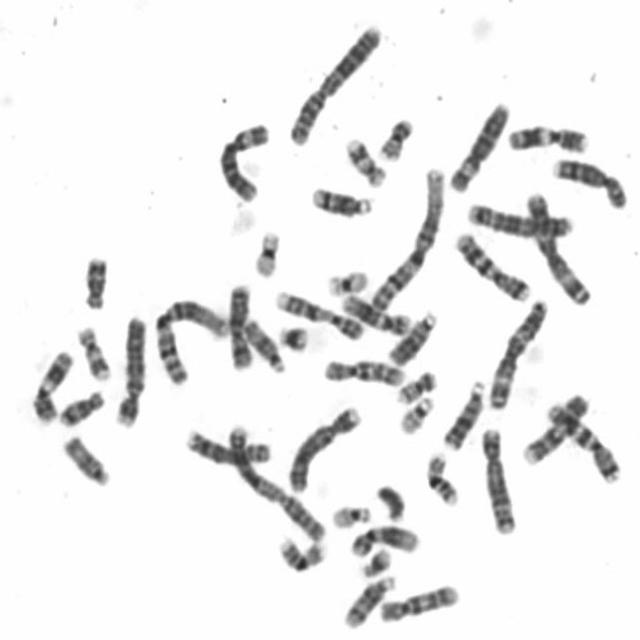A1: (370, 163, 446, 313), (152, 296, 229, 388)
A2: (288, 21, 384, 149), (225, 422, 327, 542)
A3: (524, 190, 593, 306), (486, 294, 553, 410)
B4: (285, 404, 363, 494), (114, 313, 148, 429)
B5: (477, 426, 519, 537), (468, 201, 572, 239)
C10: (376, 583, 460, 625), (320, 359, 407, 388)
C11: (27, 348, 74, 427), (508, 124, 592, 156)
C12: (339, 290, 413, 338), (347, 525, 422, 561)
C6: (448, 100, 510, 194), (215, 119, 270, 207)
C7: (545, 403, 624, 485), (453, 228, 531, 304)
C8: (552, 159, 629, 210), (182, 428, 272, 468)
C9: (521, 392, 590, 468), (274, 288, 364, 341)
D13: (439, 379, 489, 454), (385, 307, 440, 368)
D14: (341, 574, 396, 632), (308, 183, 376, 220)
D15: (61, 435, 112, 488), (243, 320, 287, 375)
E16: (423, 450, 460, 507), (279, 538, 326, 575)
E17: (343, 133, 388, 190), (76, 326, 112, 380)
E18: (57, 390, 105, 428), (82, 253, 110, 313)
F19: (323, 269, 372, 299), (252, 227, 280, 279)
F20: (376, 114, 414, 164), (391, 370, 438, 405)
G21: (360, 547, 391, 579), (278, 324, 309, 354)
G22: (395, 396, 435, 440), (330, 502, 369, 530)
X: (227, 283, 253, 371)
Y: (373, 482, 407, 524)
